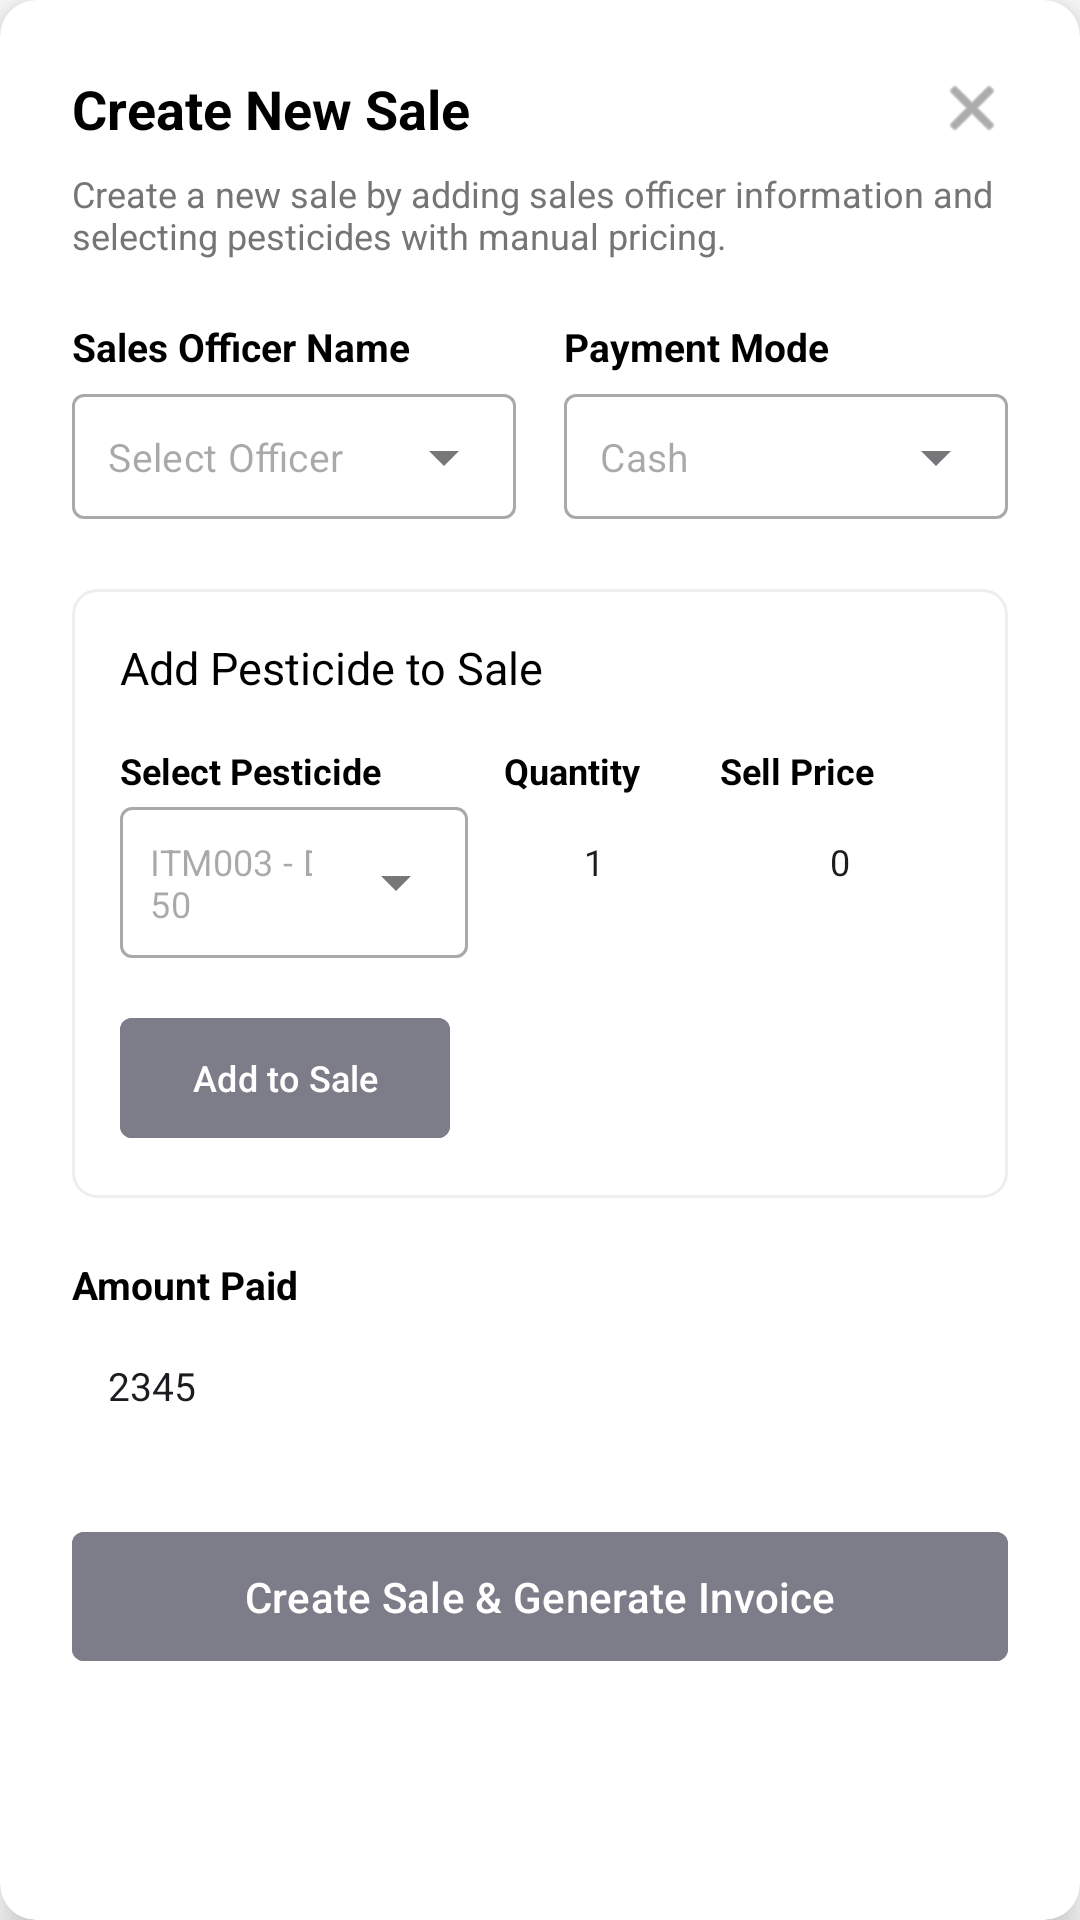

Named icons in this screenshot (1080 x 1920) and their bounding boxes, (x1, y1, x2, y2):
close clear cancel: (950, 86, 994, 130)
